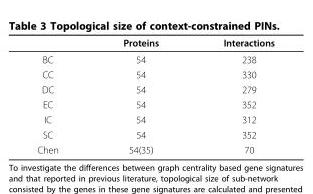table: (36, 36, 274, 155)
table column: (90, 36, 190, 155), (190, 36, 274, 155), (36, 36, 90, 155)
table column header: (36, 36, 274, 50)
table row: (36, 50, 274, 66), (36, 66, 274, 81), (36, 81, 274, 96), (36, 96, 274, 111), (36, 111, 274, 126), (36, 126, 274, 141), (36, 36, 274, 50), (36, 141, 274, 155)
